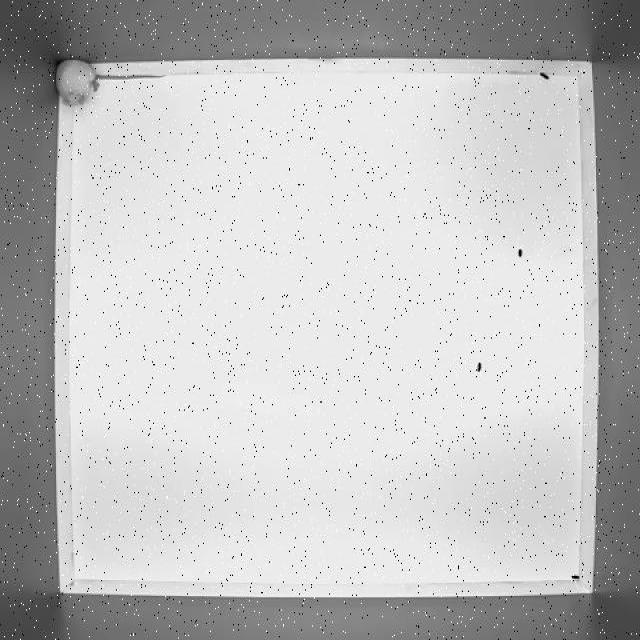rat: (54, 56, 168, 111)
